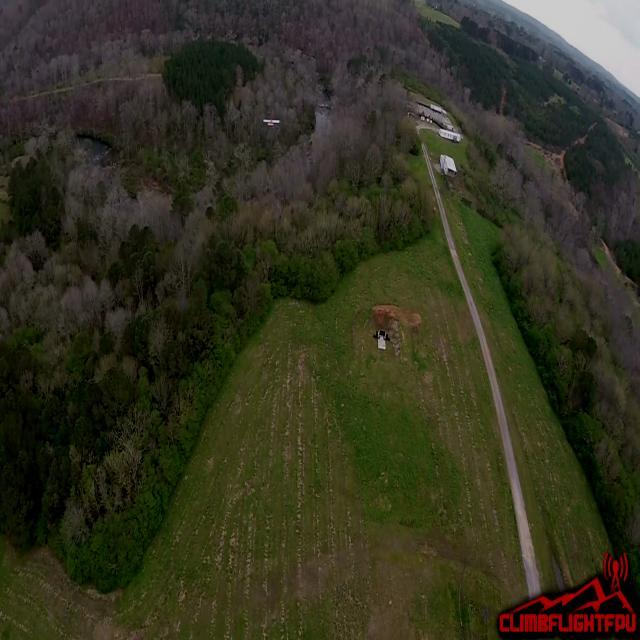iha: (262, 55, 281, 61)
